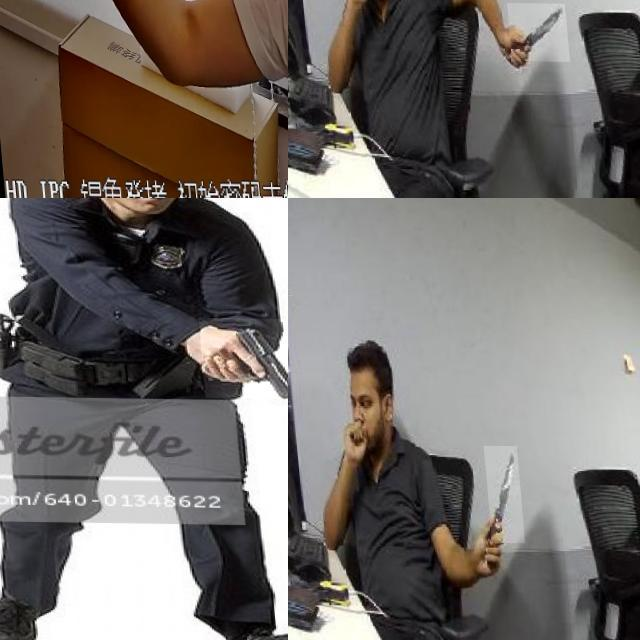-: (476, 444, 516, 542), (500, 2, 562, 62)
gun-knife-thesis - v11 Yolov5 augmented: (0, 0, 69, 117), (194, 316, 288, 397)
